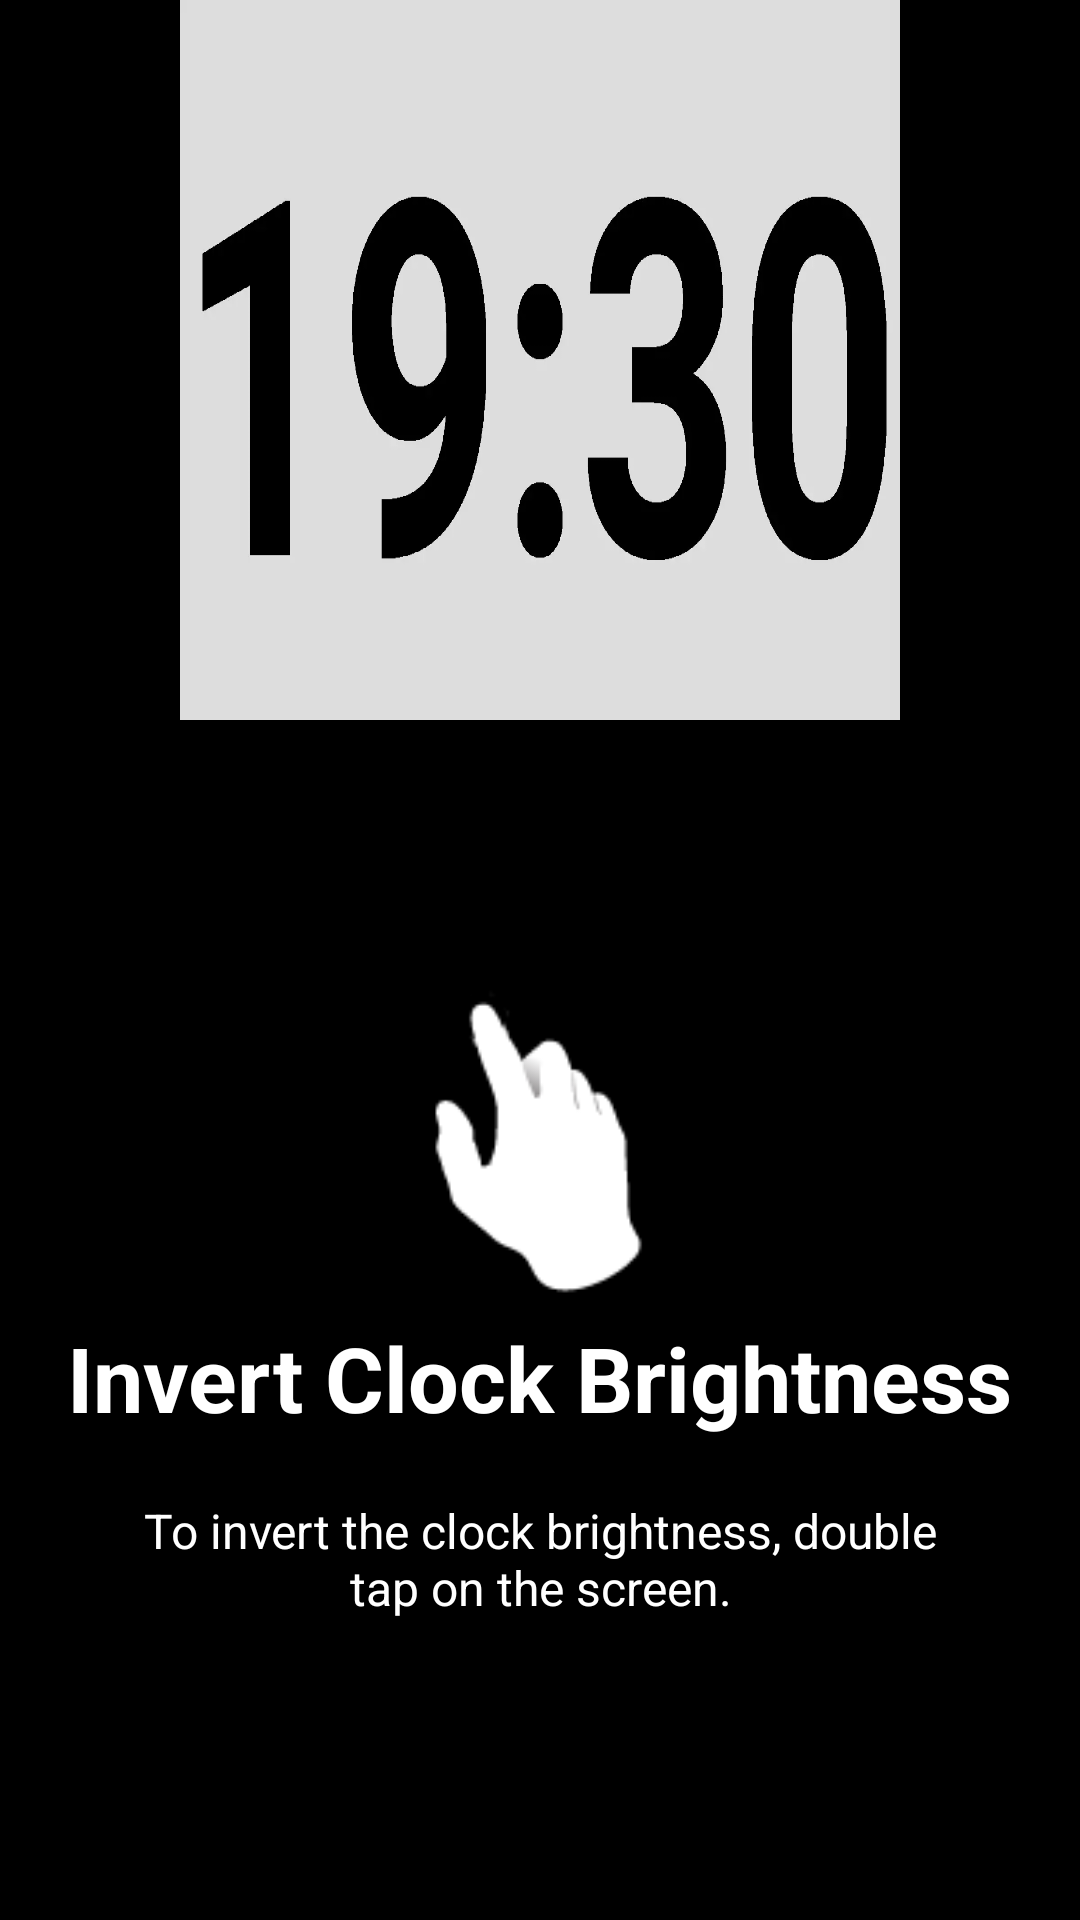

Named icons in this screenshot (1080 x 1920) and their bounding boxes, (x1, y1, x2, y2):
single touch: (435, 1002, 642, 1293)
